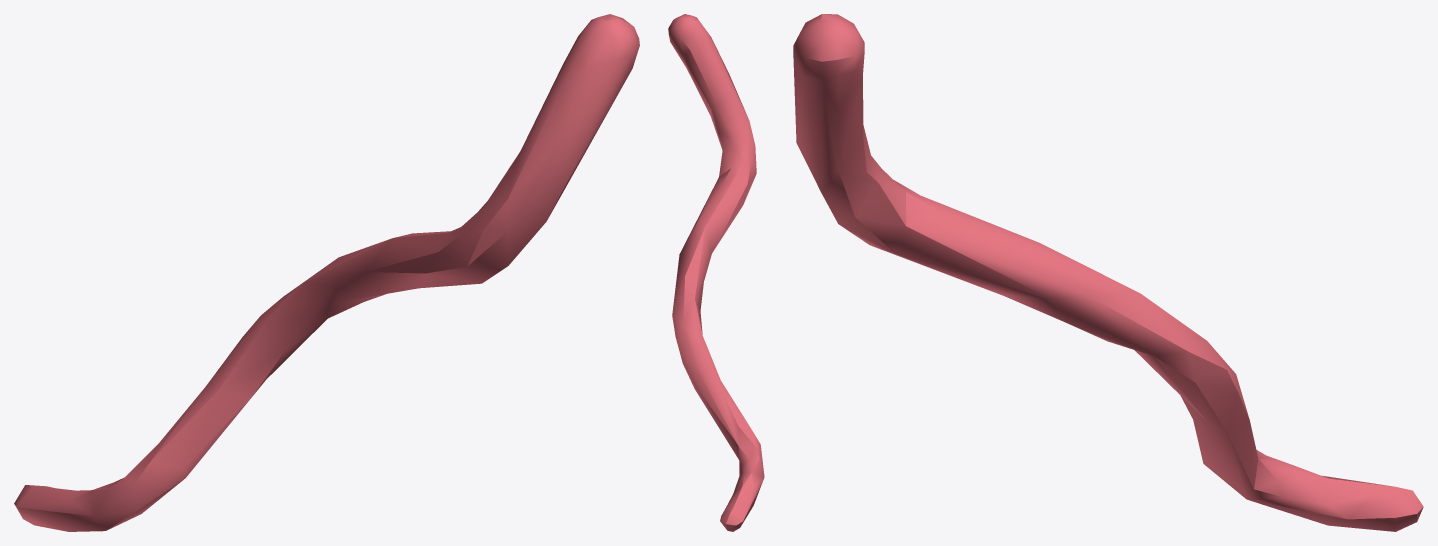
Rendered from fma3860_fj2640.glb.
3 views of the same model, side by side, from view 1: azimuth 30°, elevation 25°; view 2: azimuth 150°, elevation 25°; view 3: azimuth 270°, elevation 25° (orthographic). The views are drawn at different scales.
Visible parts, largest first — view 1: FMA3860_FJ2640; view 2: FMA3860_FJ2640; view 3: FMA3860_FJ2640.
Boxes of the visible parts, bbox=[...] form: FMA3860_FJ2640: bbox=[14, 14, 639, 531]; FMA3860_FJ2640: bbox=[668, 14, 764, 531]; FMA3860_FJ2640: bbox=[793, 14, 1423, 531].
Size of the model in its own units: 0.00579 by 0.0091 by 0.00746.
